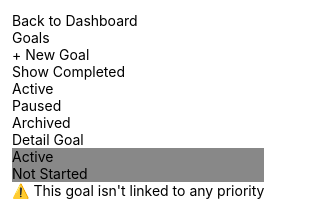
Test case: GoalsScreen › Detail View › renders detail view with goal title
Click the button with aria-label "Goal: Detail Goal": x=138, y=165 [12, 131, 264, 199]
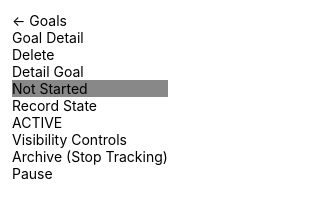
Expected: the text "Detail Goal" is shown, [12, 63, 84, 80]
Expected: the text "Goal Detail" is shown, [12, 29, 84, 46]
